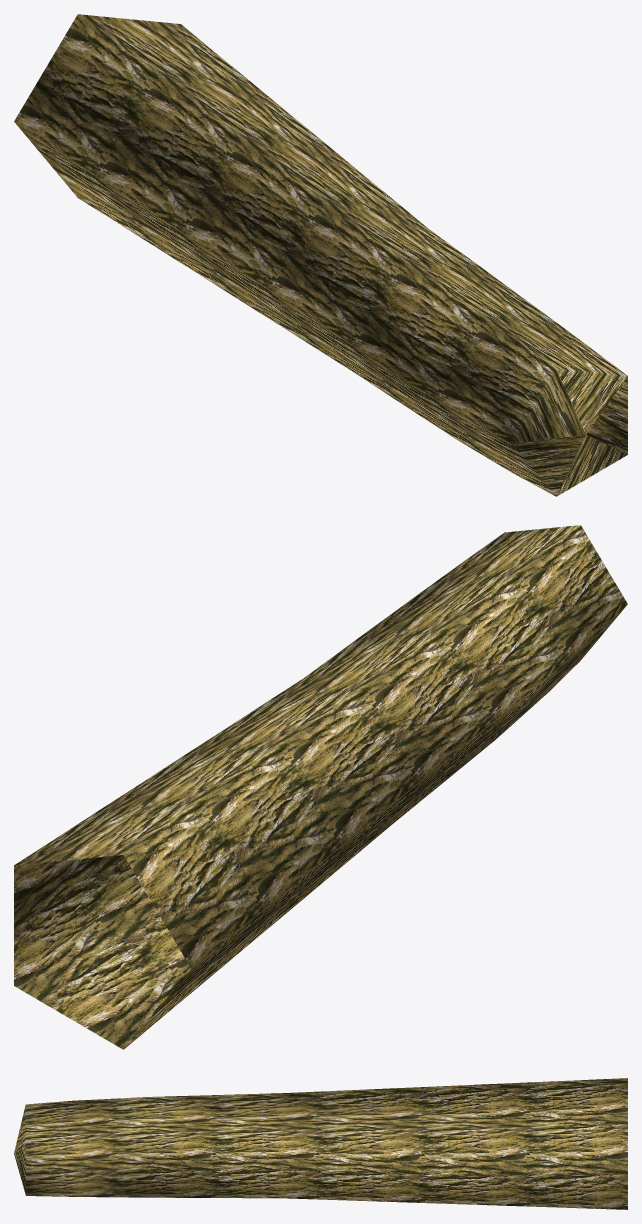
File: building_outline.dae
The picture shows the model from 3 angles, top to bottom: view 1: azimuth 30°, elevation 25°; view 2: azimuth 150°, elevation 25°; view 3: azimuth 270°, elevation 25°; orthographic projection. The views are drawn at different scales.
Visible parts, largest first — view 1: Tree_0; view 2: Tree_0; view 3: Tree_0.
Part boxes in pixels (<box>): Tree_0: <box>14,14,627,496</box>; Tree_0: <box>14,525,627,1049</box>; Tree_0: <box>14,1078,627,1209</box>.
Size of the model in its own units: 3.06 by 14.73 by 3.22.
Materials: 1 (1 with a texture image).
